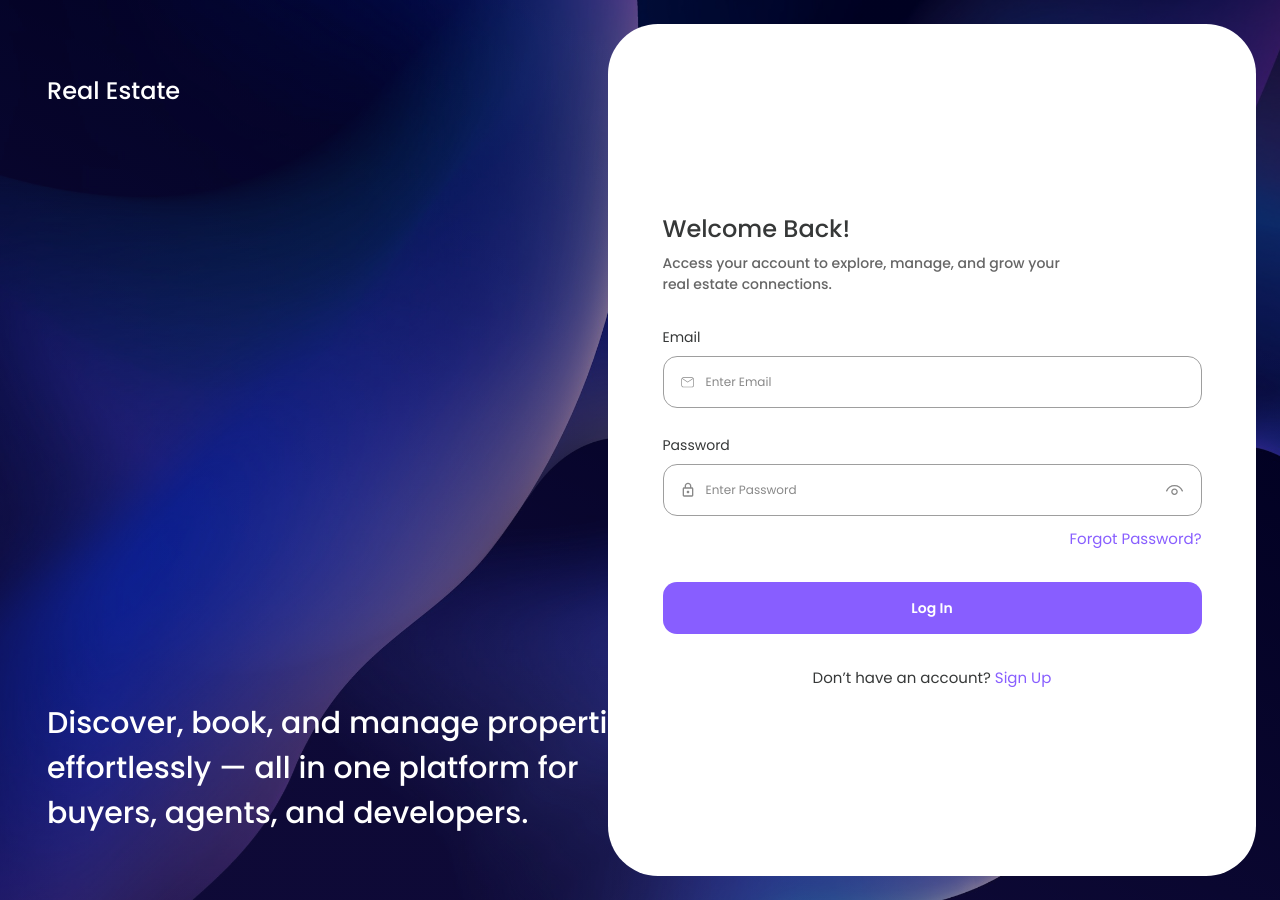
Scenario: LoginPage › shows a non-field API error in the form alert
The image size is (1280, 900).
In the field labelled "Email": (945, 382) [706,357,1184,407], type "  Sara@Example.TEST "
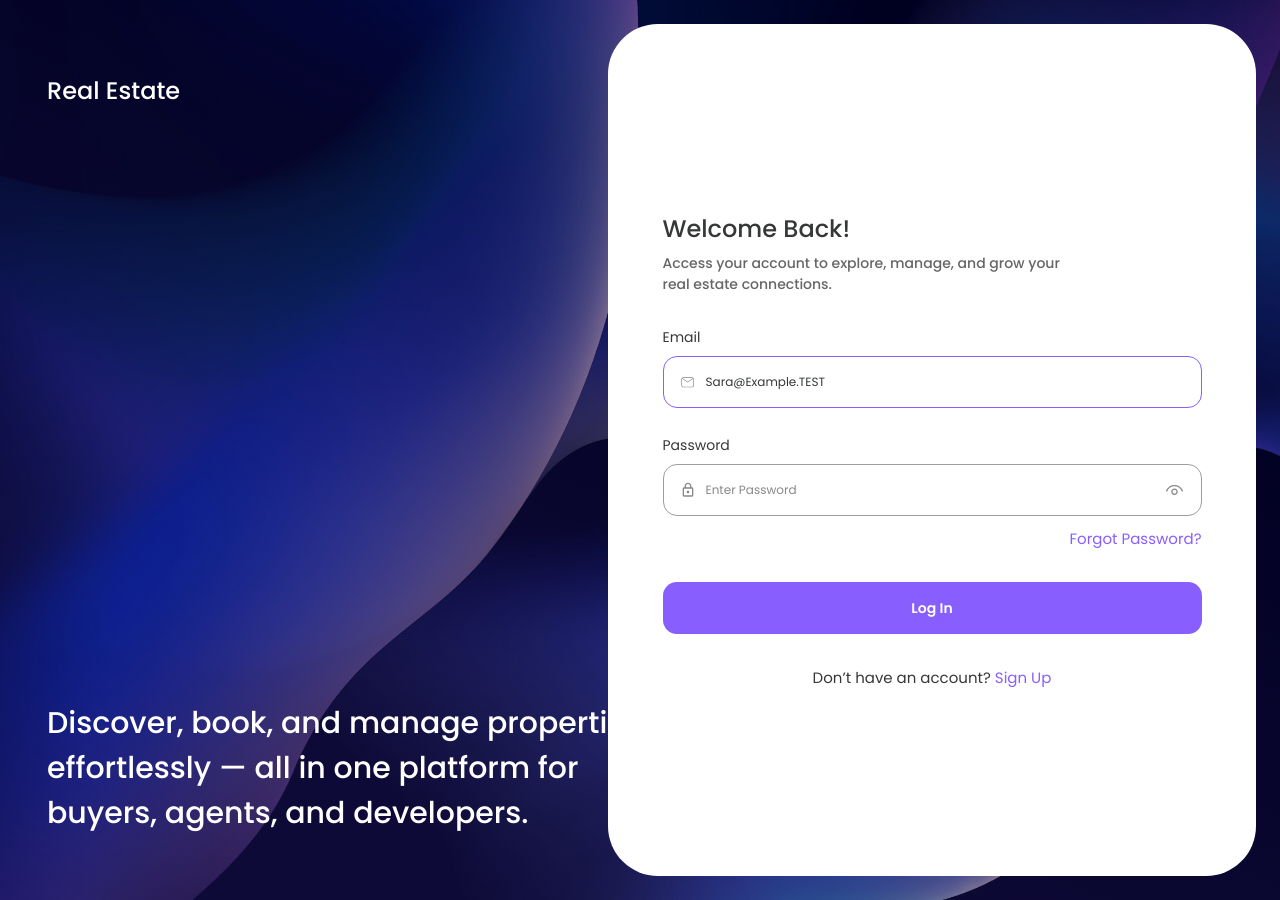
In the password field labelled "Password": (930, 490) [706,465,1154,515], type "secret123"
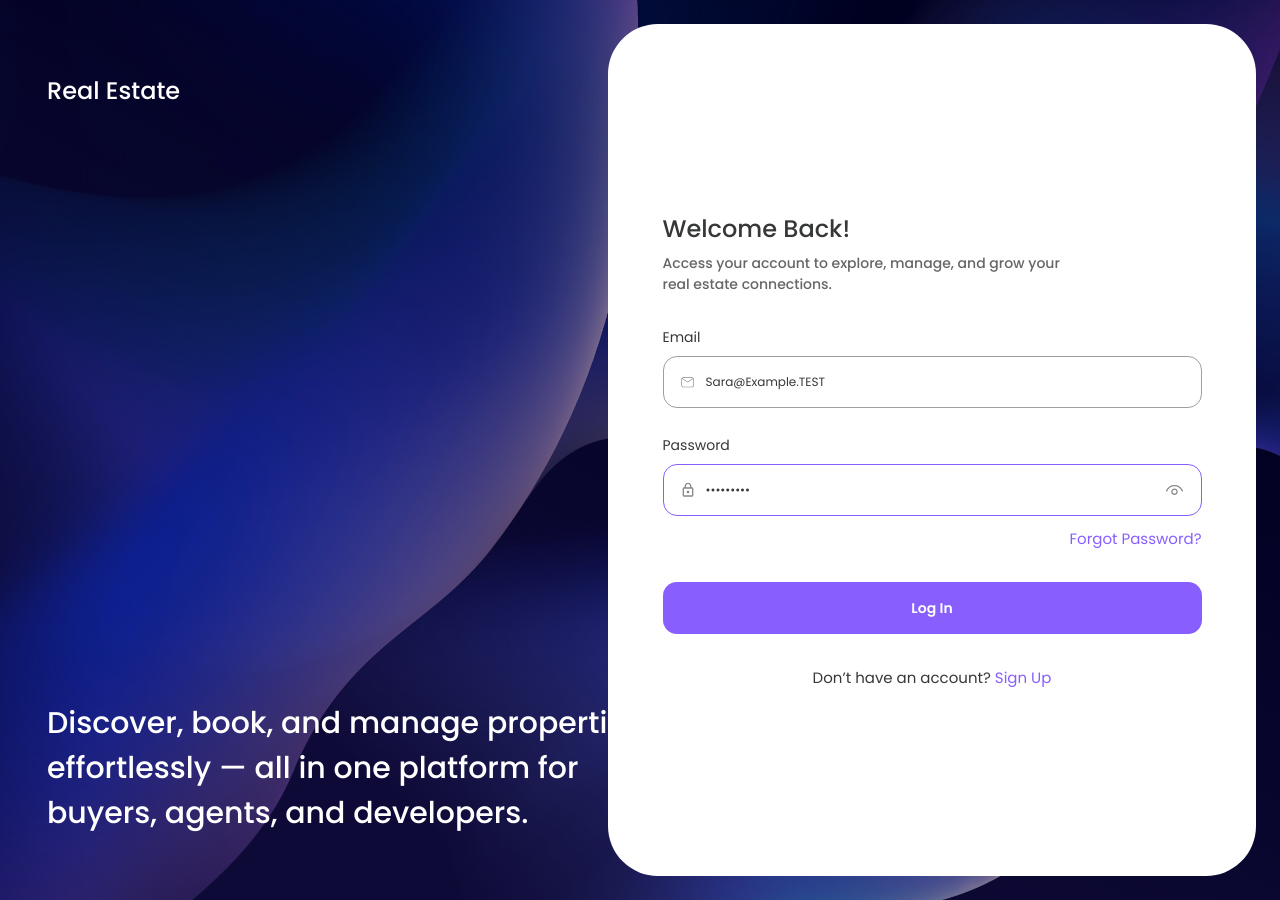
Click the button "Log In": (932, 608) [662,582,1202,634]
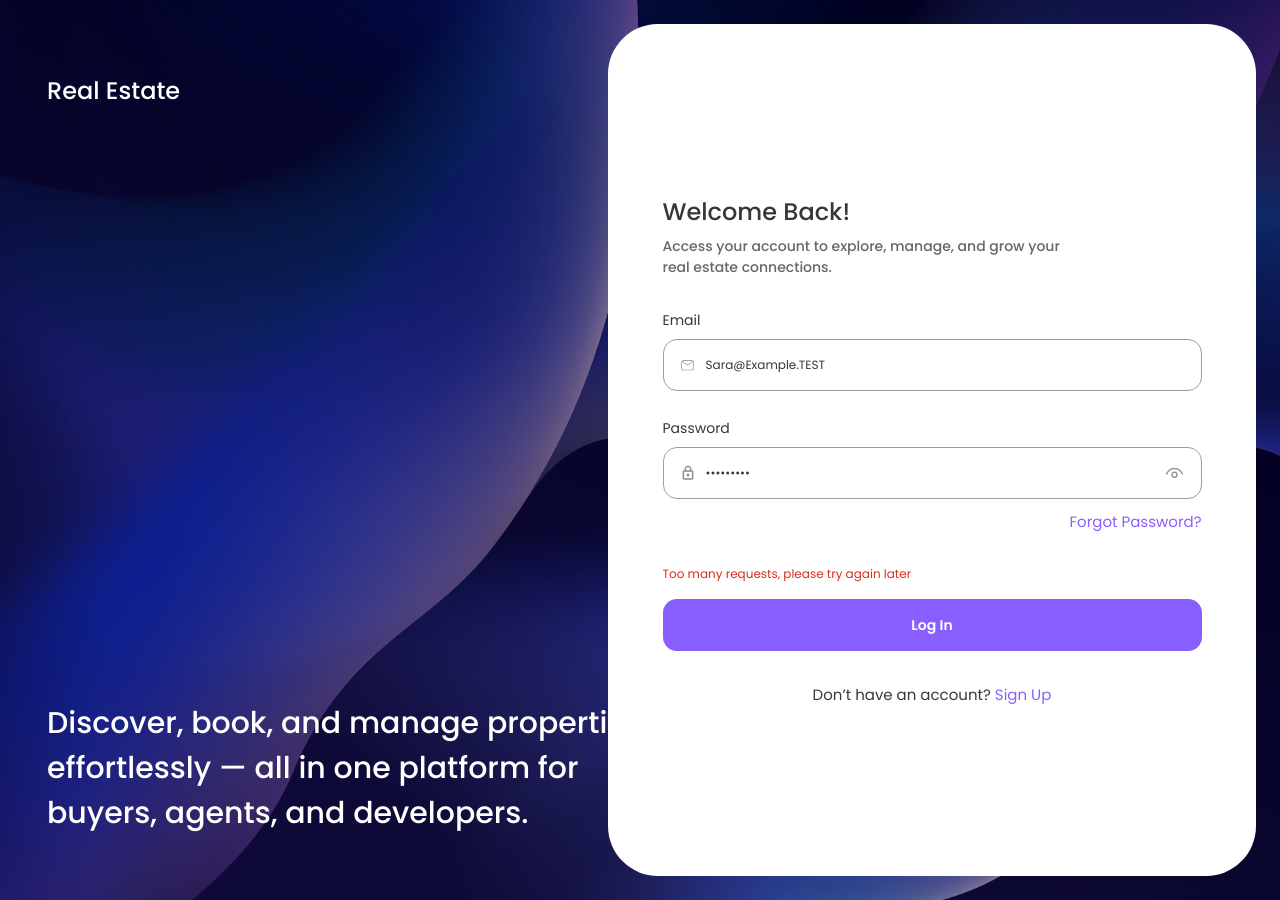
Result: the message reads "Too many requests, please try again later" at [662,565,911,582]
